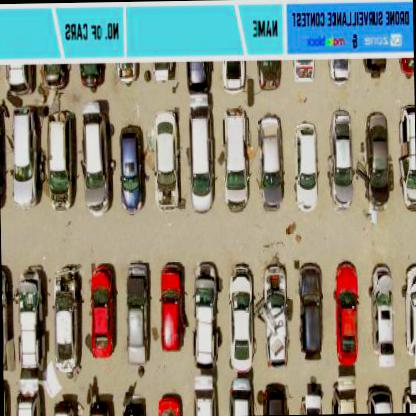car: (52, 266, 83, 374), (81, 109, 109, 218), (259, 264, 288, 366), (194, 263, 220, 369), (333, 262, 359, 366), (124, 264, 151, 364), (18, 266, 43, 374), (227, 263, 252, 370), (223, 108, 248, 212), (87, 265, 115, 357), (364, 110, 390, 208), (327, 110, 352, 210), (369, 266, 394, 366), (257, 112, 282, 209), (299, 262, 324, 358), (158, 262, 184, 350), (395, 104, 415, 214), (294, 120, 318, 210), (118, 124, 142, 214), (402, 264, 415, 364), (262, 383, 287, 414), (366, 386, 392, 412), (223, 62, 244, 94), (258, 62, 280, 90), (80, 64, 104, 88), (330, 60, 348, 84)
